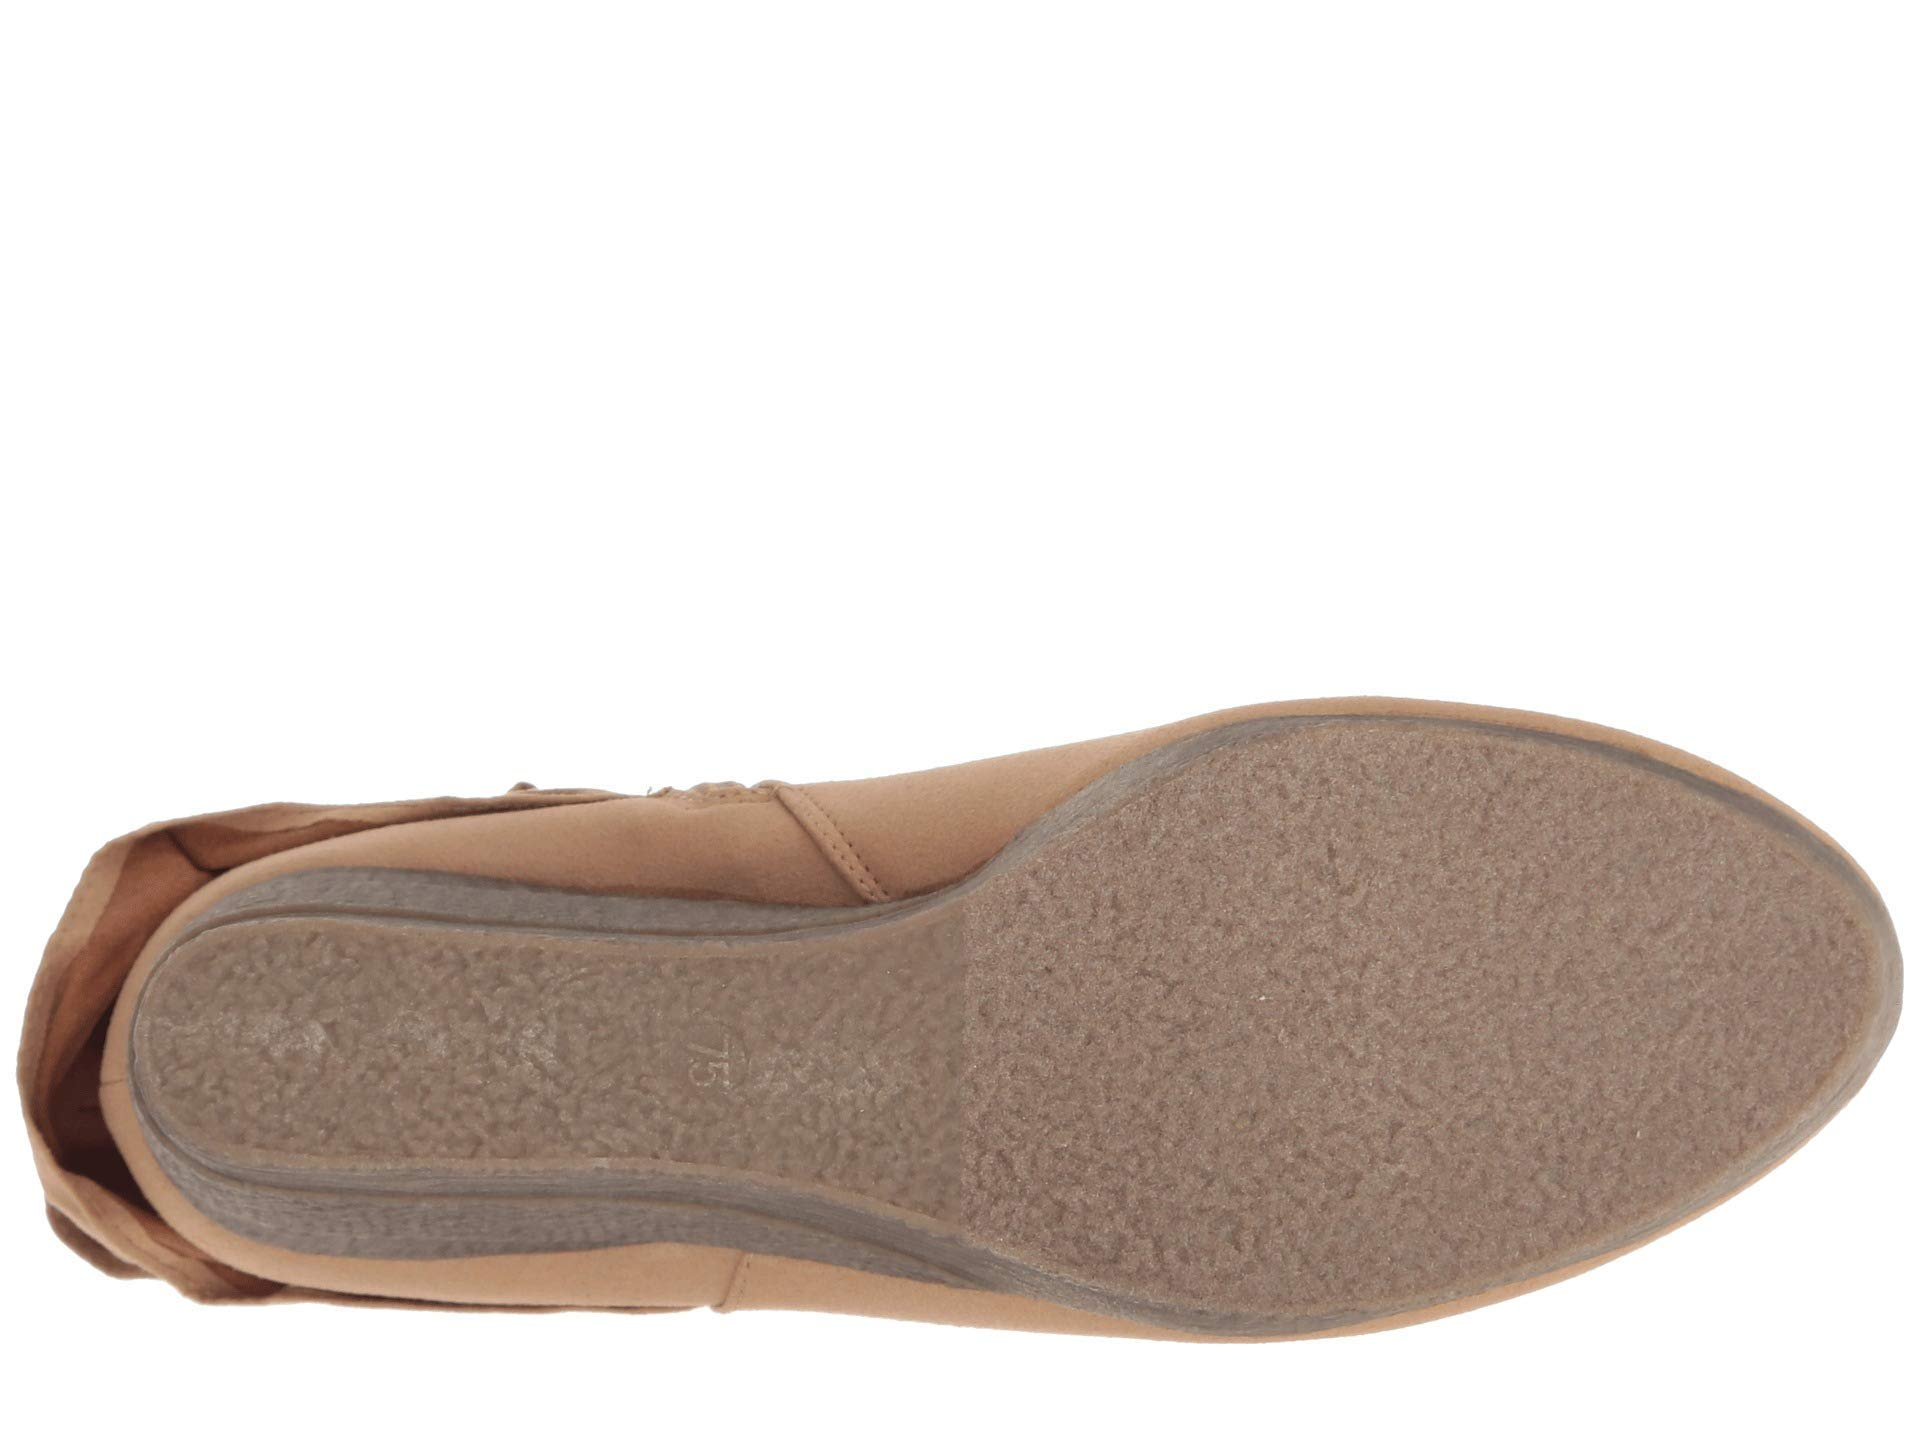circle: (646, 1010, 785, 1128)
other: (1101, 829, 1530, 1171)
text: (646, 1010, 785, 1128)
